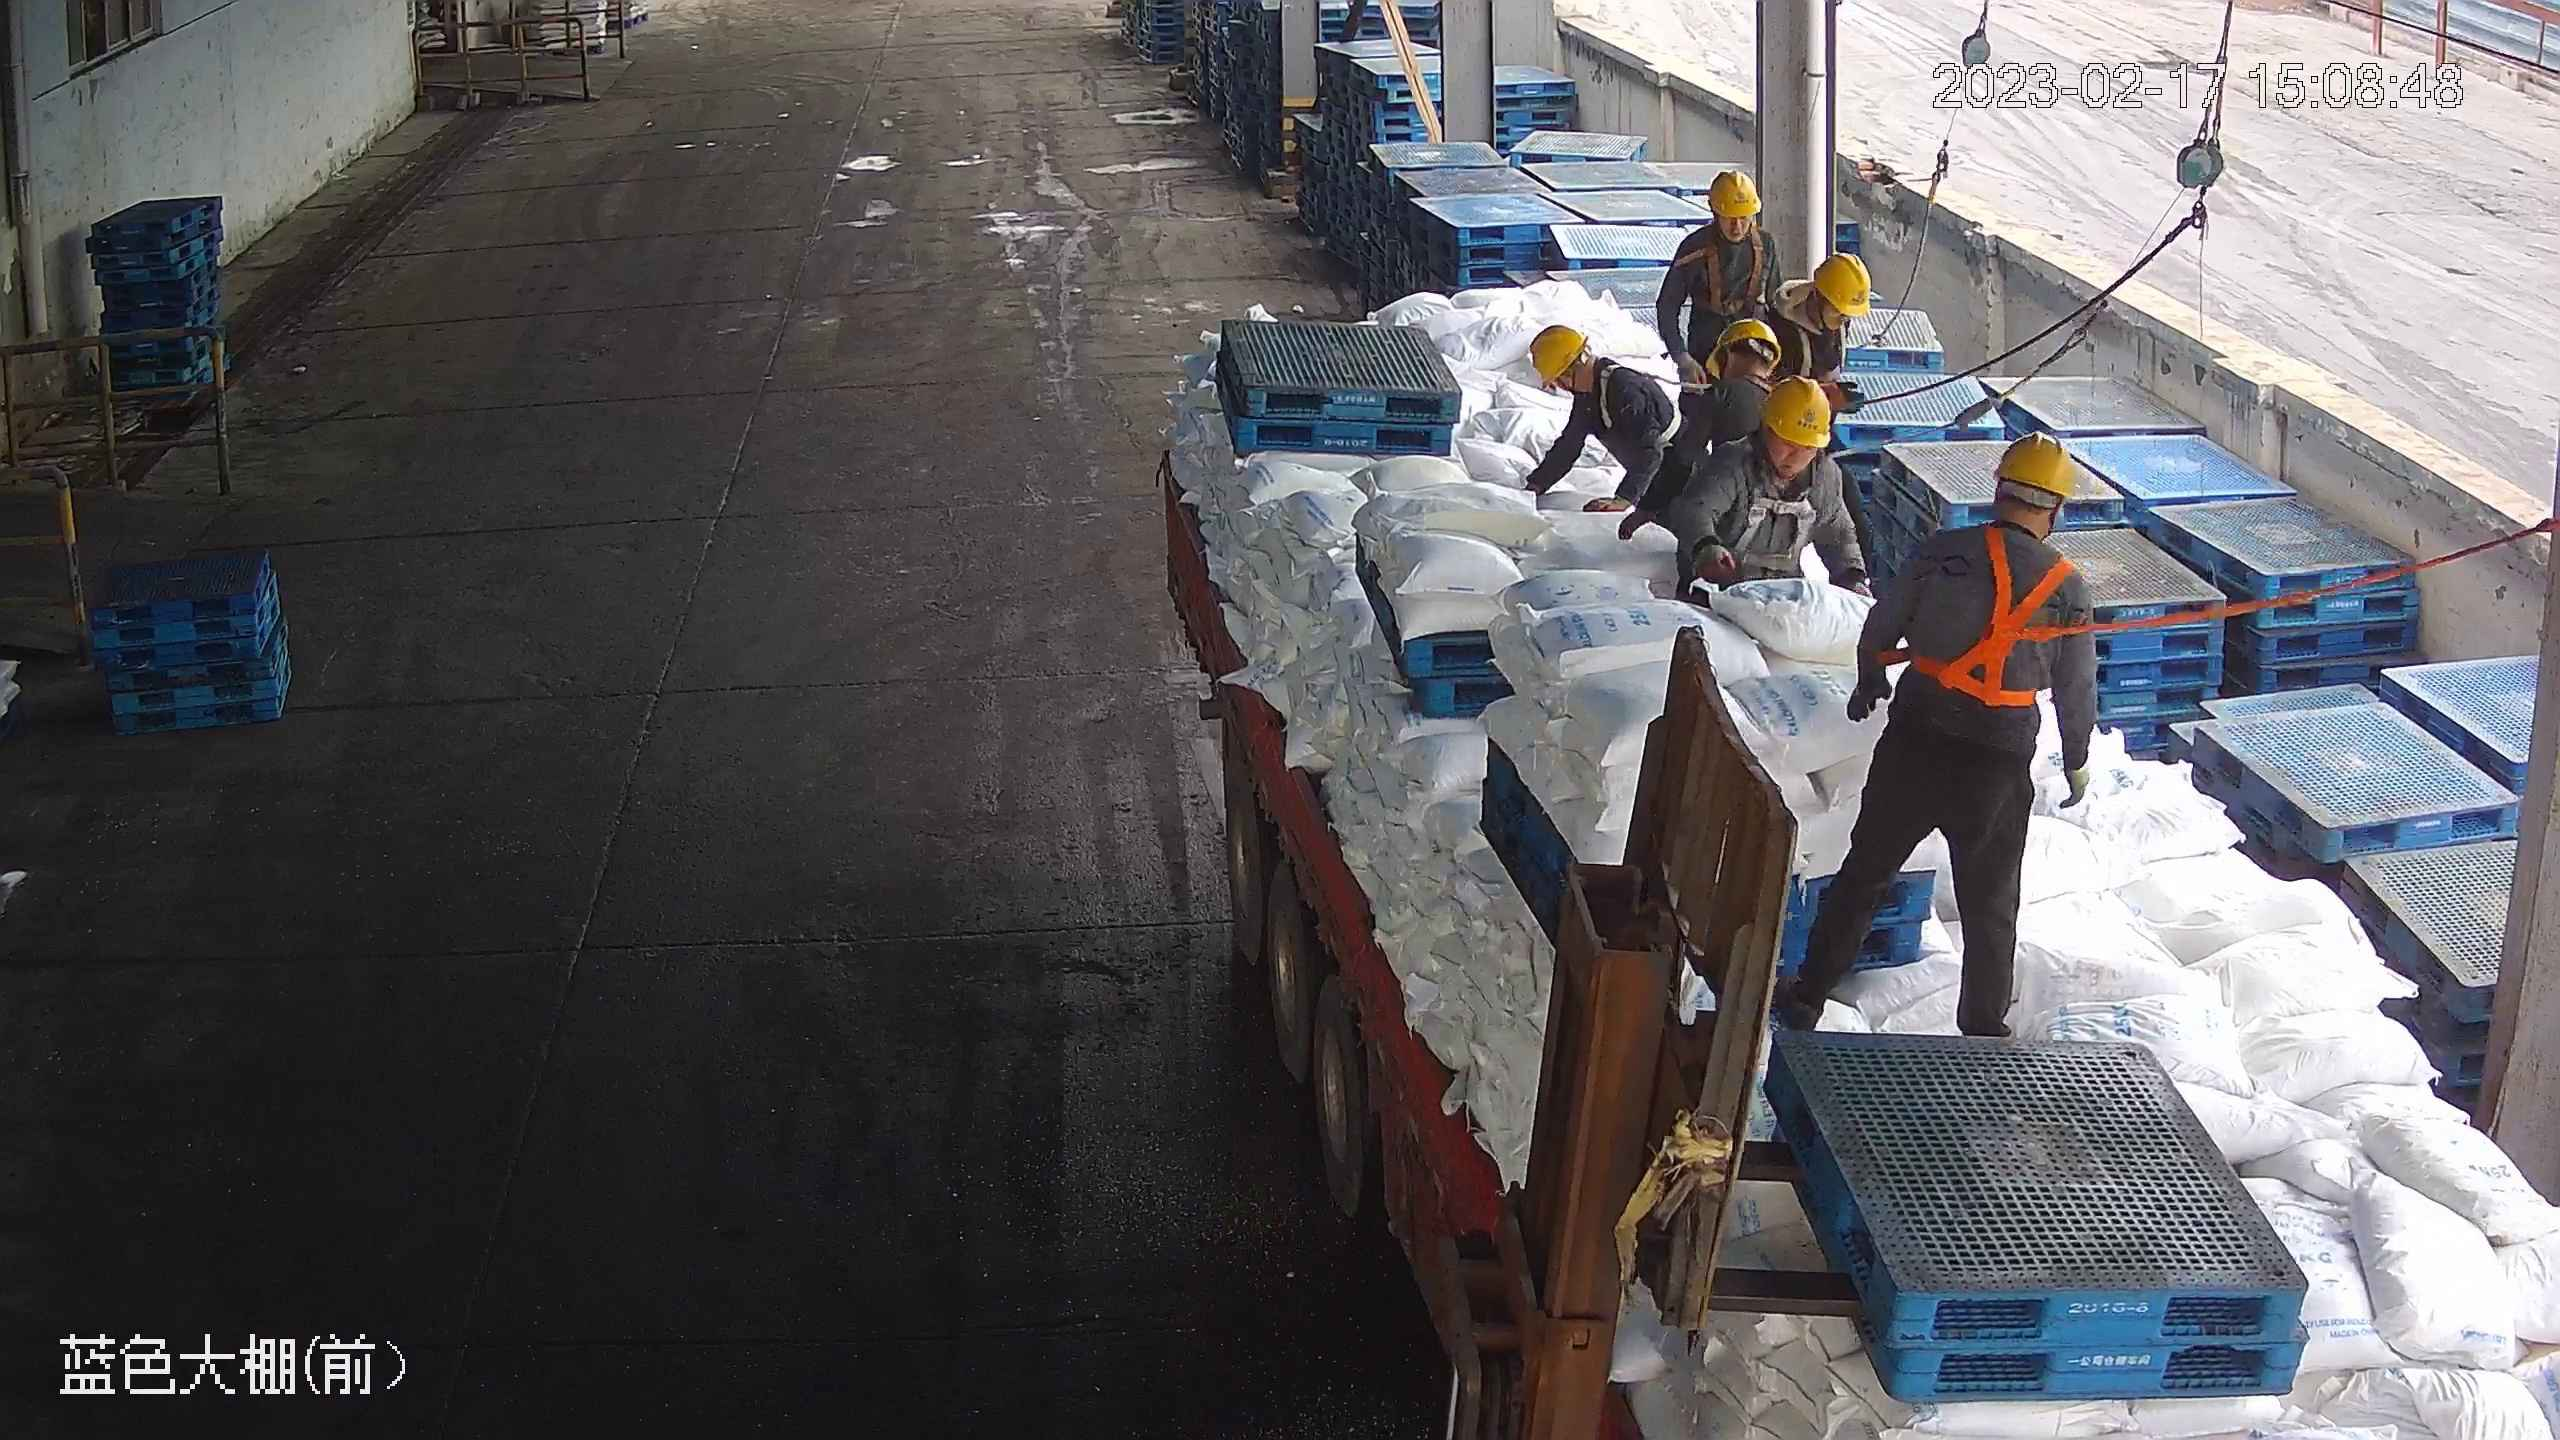belt: (1888, 520, 2082, 710), (1720, 458, 1833, 569), (1588, 361, 1691, 446), (1694, 227, 1780, 316), (1792, 319, 1860, 383)
head: (1909, 433, 2096, 618), (1680, 374, 1847, 528), (1527, 323, 1675, 457), (1767, 253, 1875, 379), (1665, 172, 1774, 282), (1993, 433, 2076, 500), (1758, 374, 1830, 450), (1707, 318, 1783, 378), (1810, 250, 1872, 318), (1526, 326, 1593, 389), (1707, 172, 1761, 220)
people: (1775, 429, 2100, 1041), (1654, 170, 1783, 397)
truck: (1149, 378, 2560, 1440)
